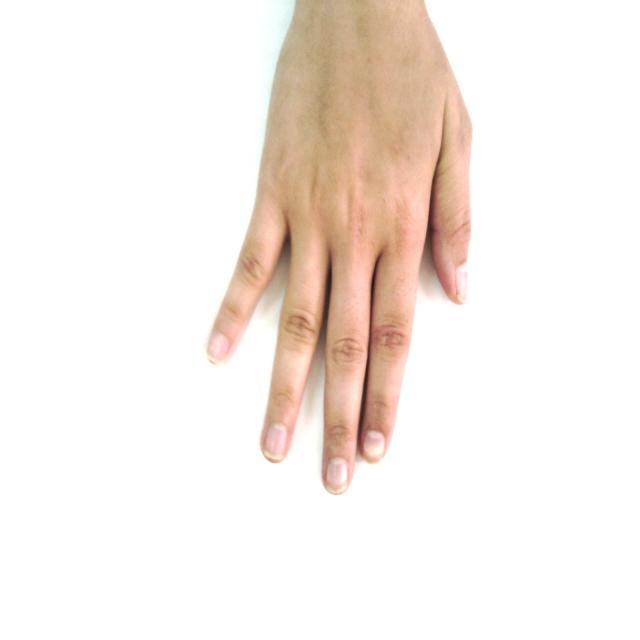Fingernail: (326, 458, 348, 493), (266, 425, 287, 458), (364, 431, 384, 460), (209, 334, 228, 361), (457, 265, 467, 300)
